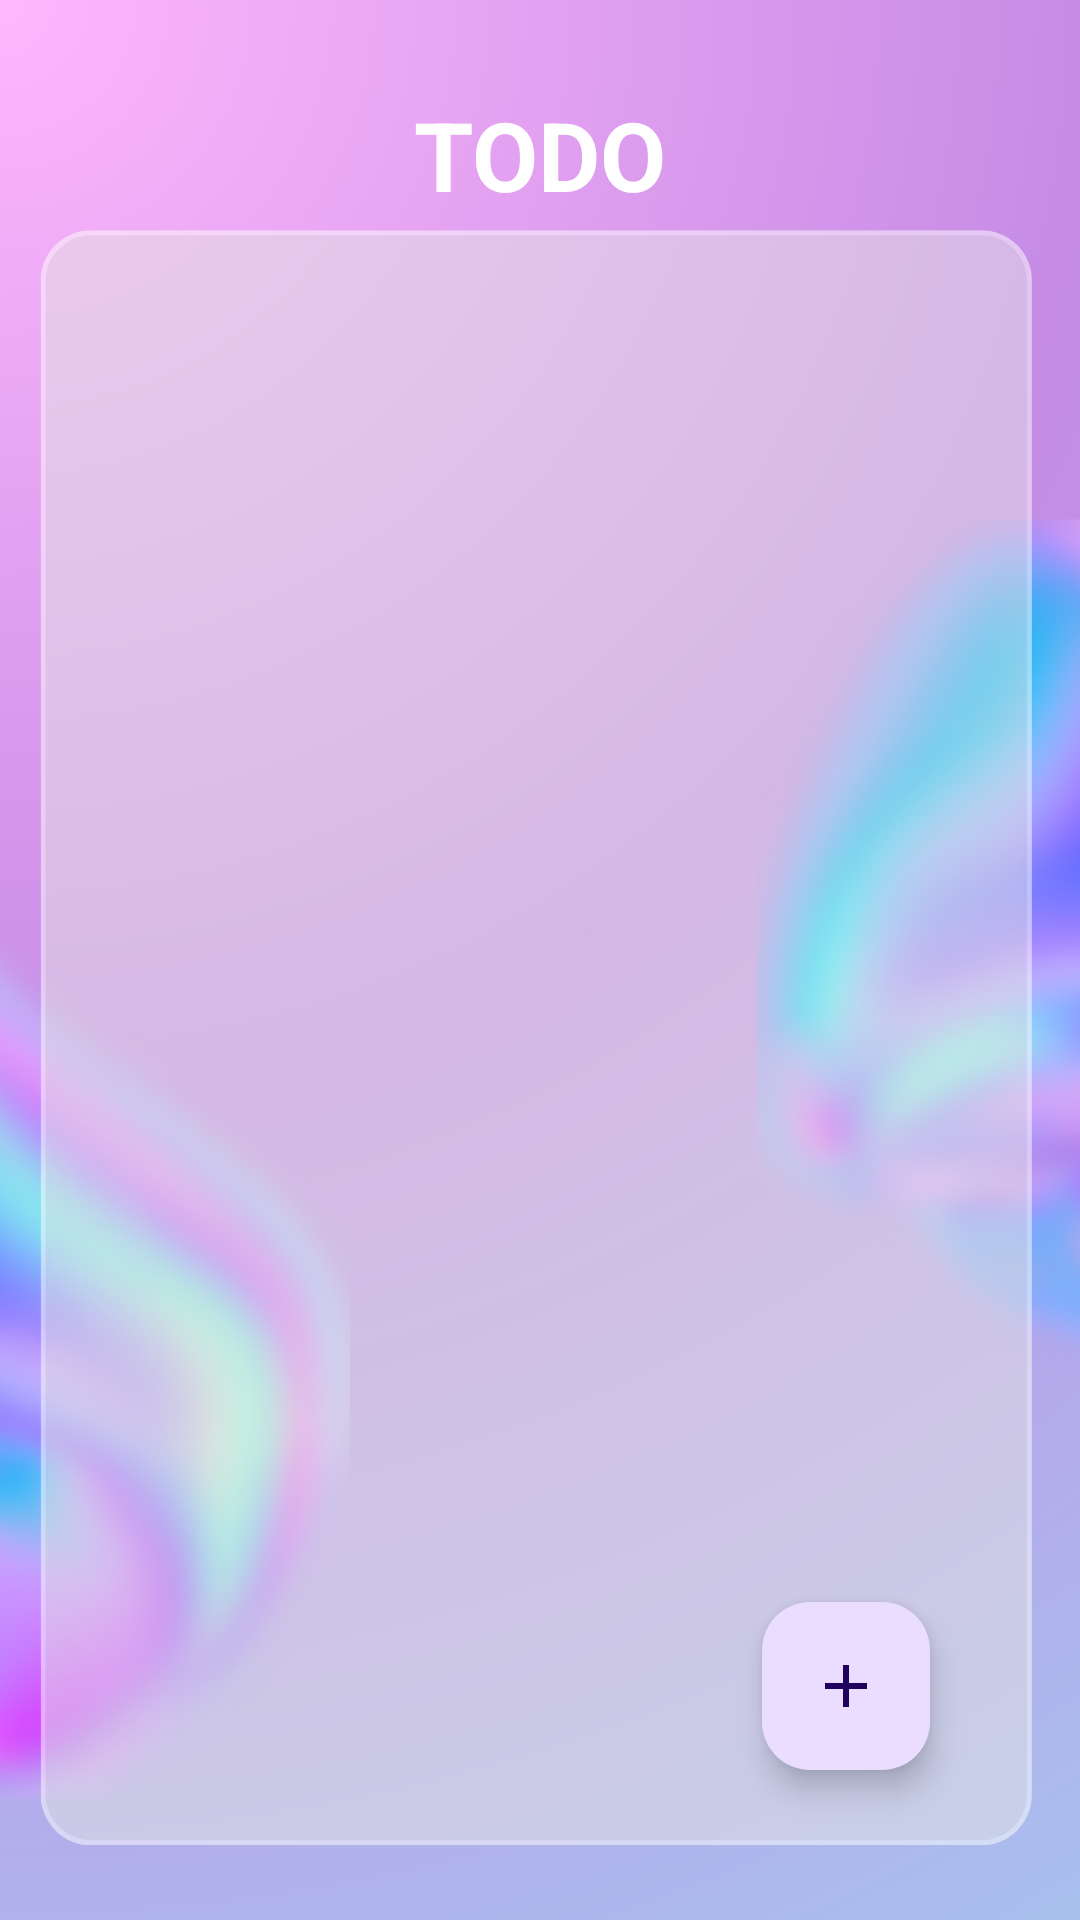

Icons on this 1080x1920 Android screen, each with the point to tap as point (x, y):
add: point (846, 1686)
